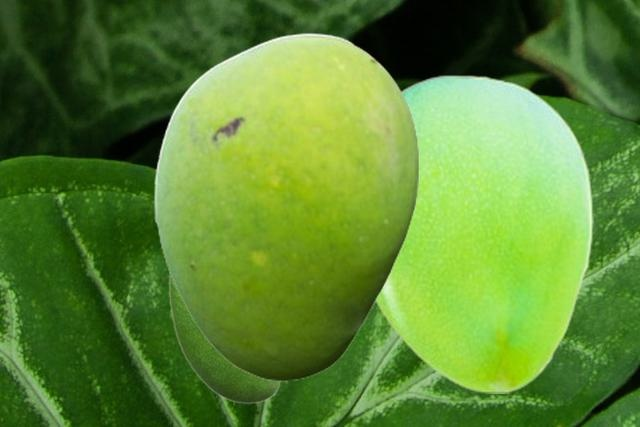green_mango: (153, 32, 418, 380), (376, 74, 592, 392), (168, 274, 283, 403)
